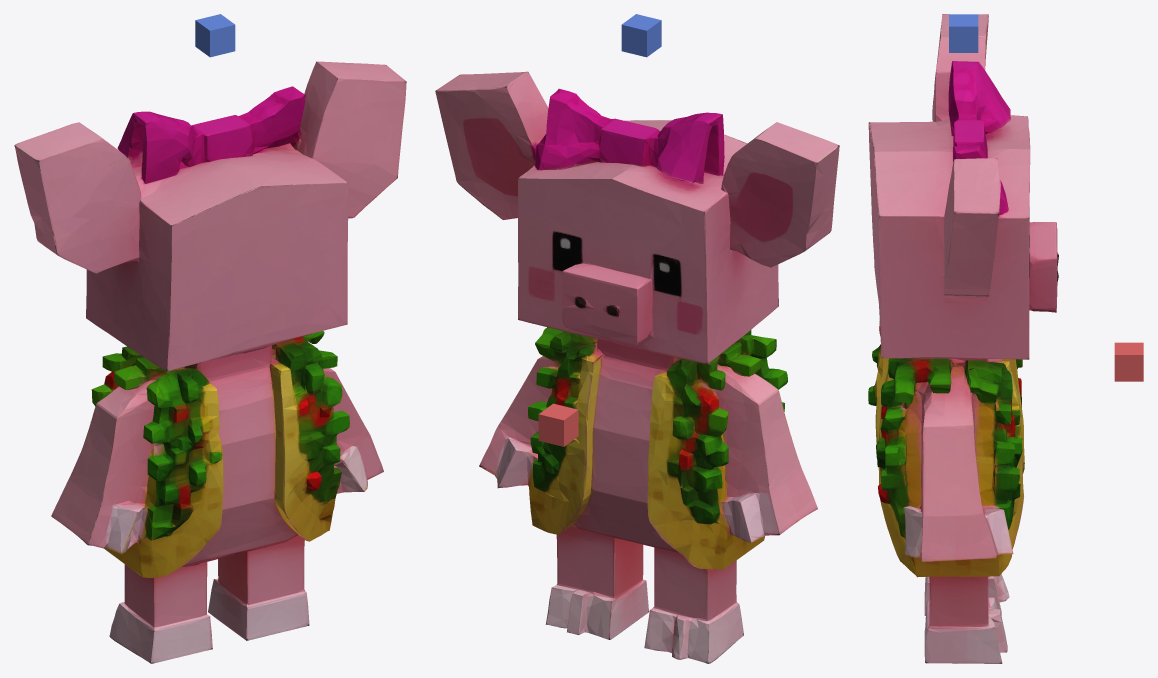
The model's file is PorcelliniTacolini.glb.
3 views of the same model, side by side, from view 1: azimuth 30°, elevation 25°; view 2: azimuth 150°, elevation 25°; view 3: azimuth 270°, elevation 25° (orthographic).
Parts seen in each view (by area): view 1: PorcelliniTacolini_Body, PorcelliniTacolini_Leg2, PorcelliniTacolini_Leg1, PorcelliniTacolini_Top; view 2: PorcelliniTacolini_Body, PorcelliniTacolini_Leg1, PorcelliniTacolini_Leg2, PorcelliniTacolini_Front, PorcelliniTacolini_Top; view 3: PorcelliniTacolini_Body, PorcelliniTacolini_Leg1, PorcelliniTacolini_Front, PorcelliniTacolini_Top, PorcelliniTacolini_Leg2.
Boxes of the visible parts, x1,y1,x2,y2 form: PorcelliniTacolini_Body: (14, 61, 406, 577); PorcelliniTacolini_Leg2: (109, 562, 212, 663); PorcelliniTacolini_Leg1: (208, 535, 309, 640); PorcelliniTacolini_Top: (195, 14, 235, 57); PorcelliniTacolini_Body: (435, 71, 839, 576); PorcelliniTacolini_Leg1: (545, 533, 649, 639); PorcelliniTacolini_Leg2: (644, 559, 743, 663); PorcelliniTacolini_Front: (538, 403, 578, 446); PorcelliniTacolini_Top: (621, 14, 661, 57); PorcelliniTacolini_Body: (868, 14, 1058, 580); PorcelliniTacolini_Leg1: (924, 576, 1007, 663); PorcelliniTacolini_Front: (1114, 342, 1143, 381); PorcelliniTacolini_Top: (949, 14, 978, 52); PorcelliniTacolini_Leg2: (924, 574, 1009, 615).
Size of the model in its own units: 3.72 by 5.72 by 2.36.
1 material, 1 textured.
